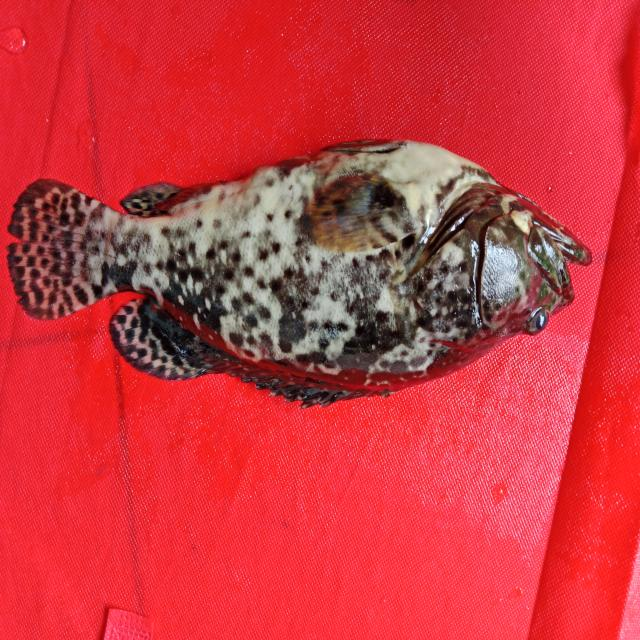ikan: (7, 136, 598, 411)
